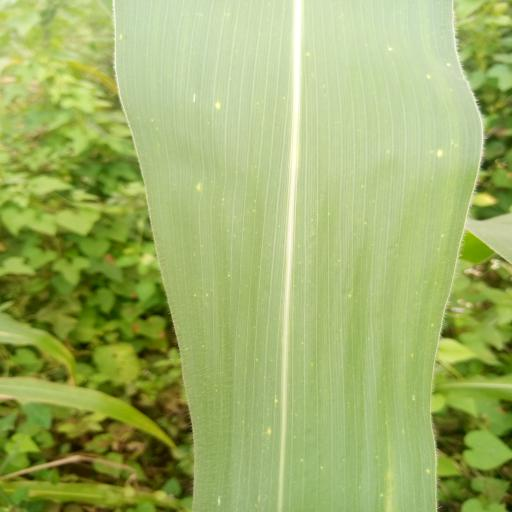Corn_Chlorotic_Leaf_Spot: (103, 0, 493, 512)
